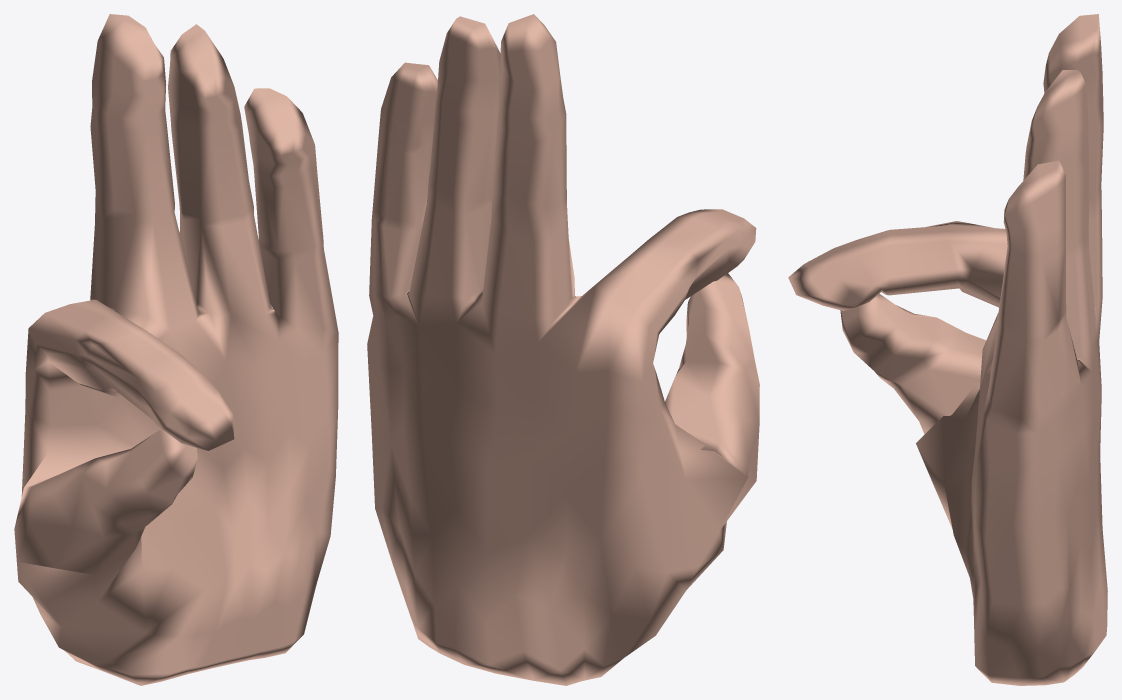
Rendered from MAO_CERTO_ABERTA.obj.
3 views of the same model, side by side, from view 1: azimuth 30°, elevation 25°; view 2: azimuth 150°, elevation 25°; view 3: azimuth 270°, elevation 25° (orthographic). The views are drawn at different scales.
Visible parts, largest first — view 1: mao_dir polySurface1; view 2: mao_dir polySurface1; view 3: mao_dir polySurface1.
Boxes of the visible parts, x1,y1,x2,y2 form: mao_dir polySurface1: (14,14,338,685); mao_dir polySurface1: (367,14,759,685); mao_dir polySurface1: (788,14,1107,685).
Size of the model in its own units: 136 by 243 by 115.
